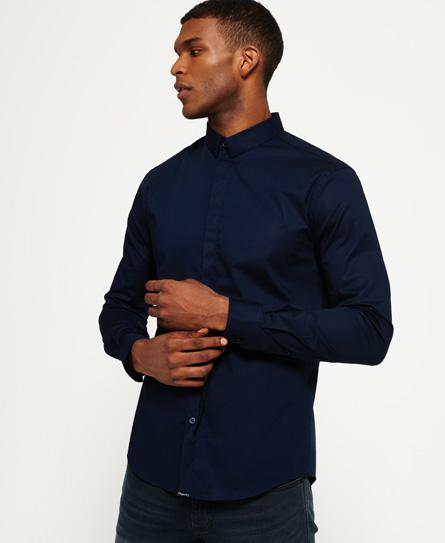teeshirt: (87, 114, 394, 498)
